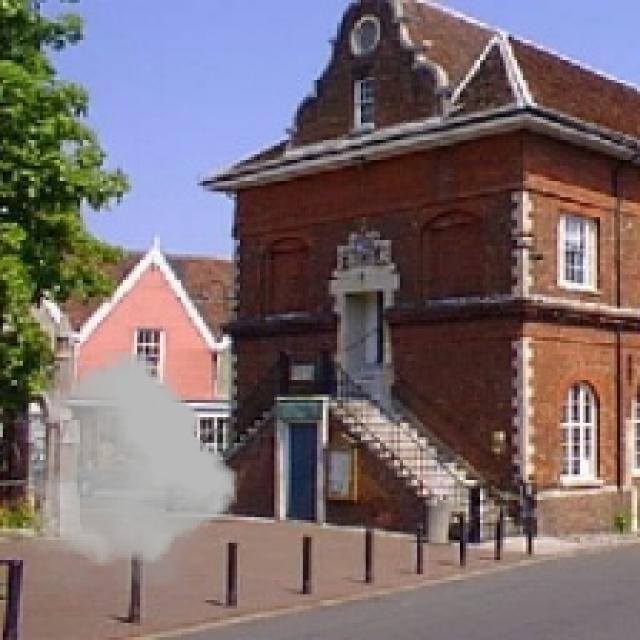Smoke: (29, 346, 238, 594)
